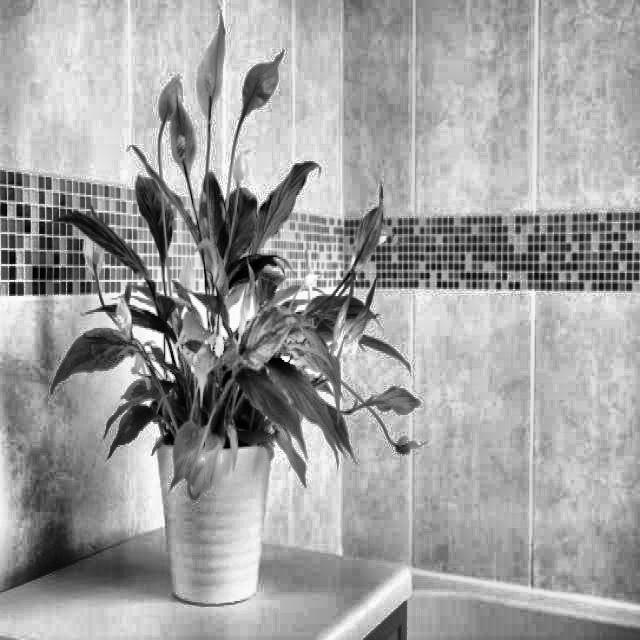plants: (56, 19, 416, 584)
